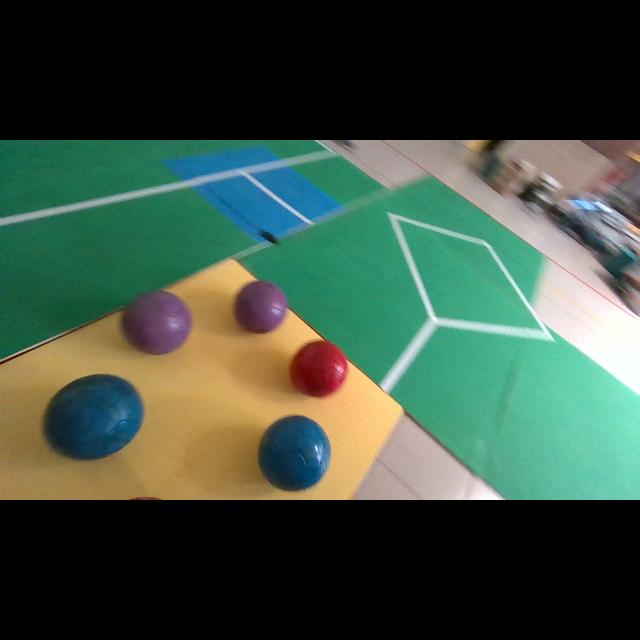B: (44, 374, 144, 459), (258, 415, 331, 491)
P: (122, 290, 191, 355), (235, 280, 288, 333)
R: (290, 341, 348, 398), (130, 496, 161, 499)
